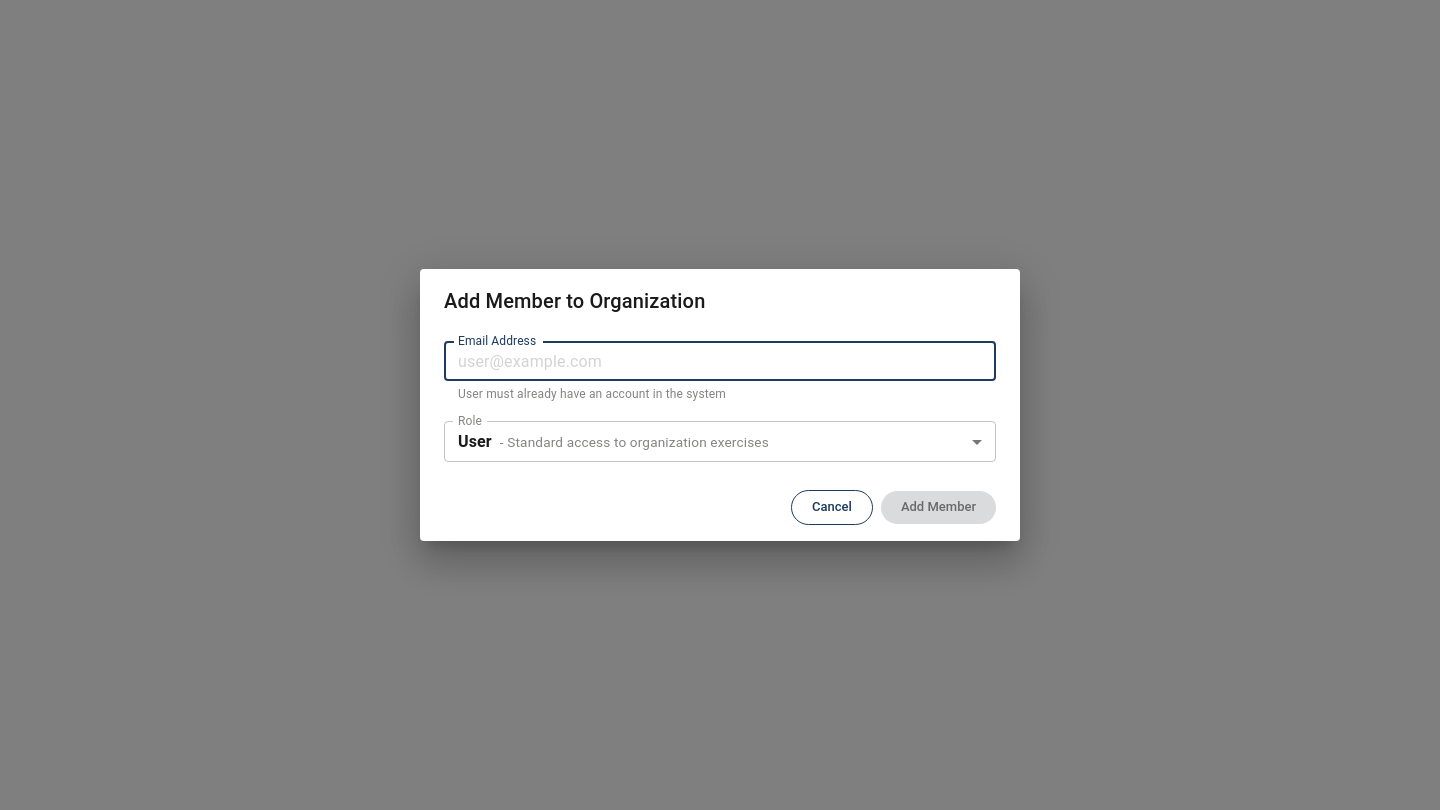
Test: AddMemberDialog › Form Validation › shows error when email is invalid
Type "invalidemail" into the field labelled "Email Address" at (720, 361), box x1=444 y1=341 x2=996 y2=381
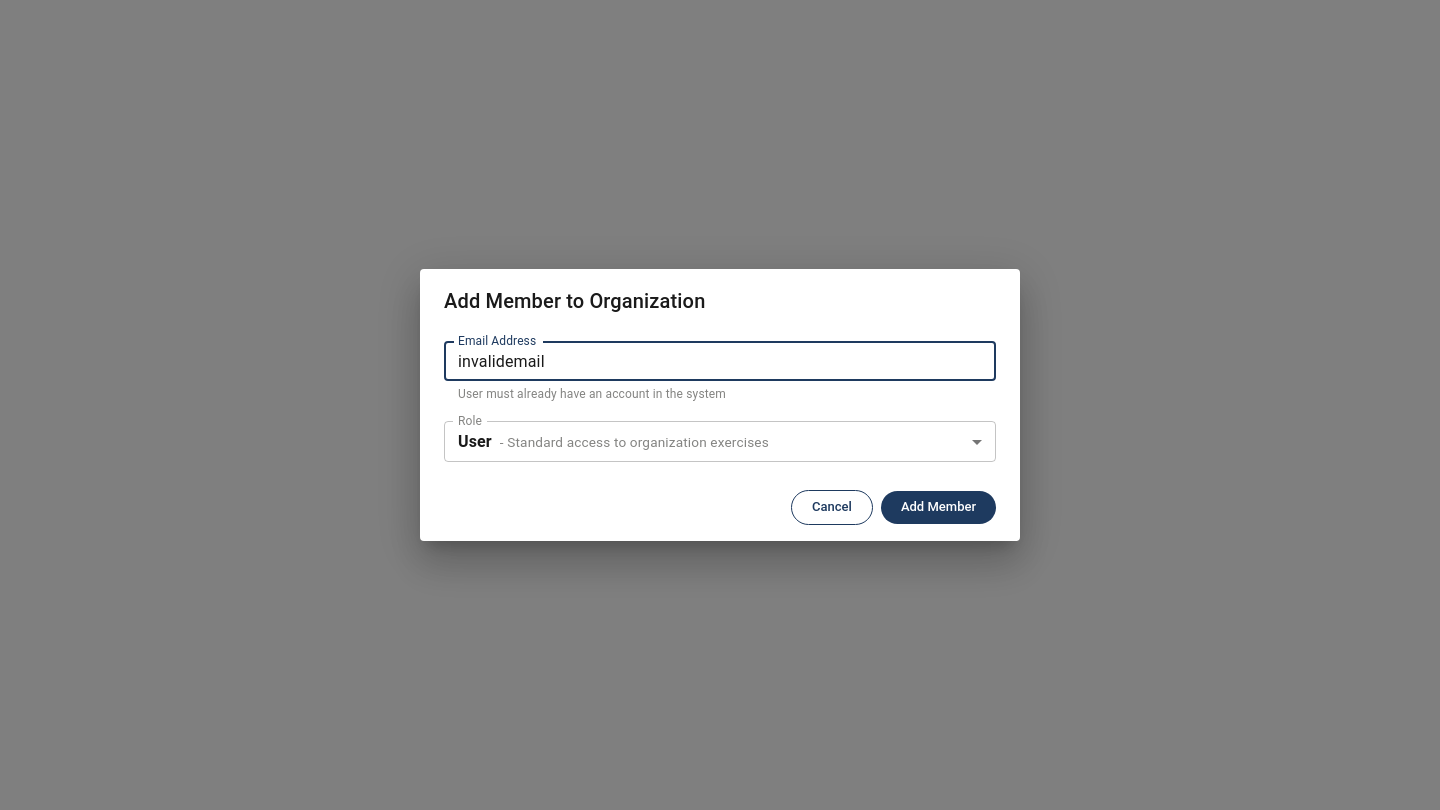
Click the button "Add Member" at (938, 508), box x1=881 y1=491 x2=996 y2=524
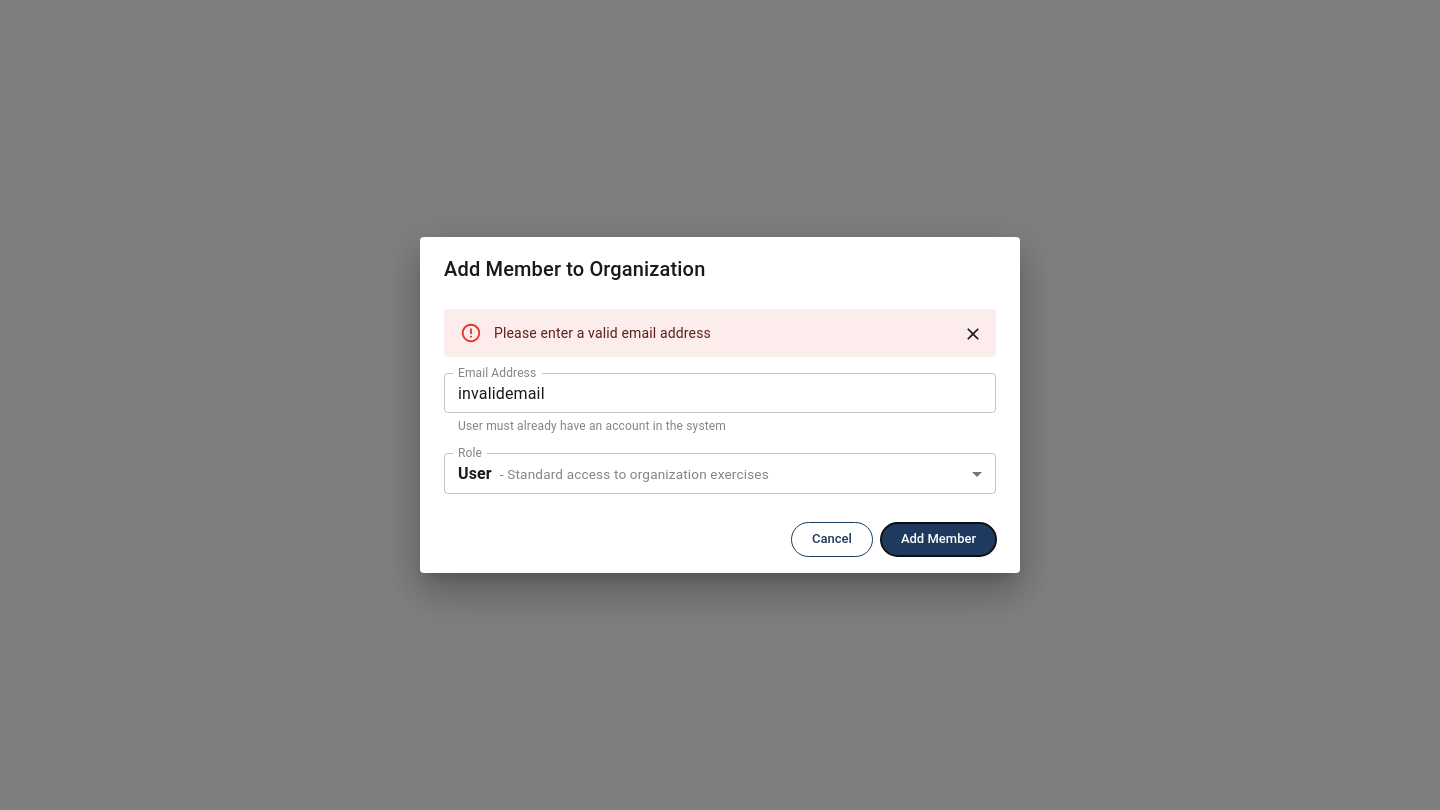
Now the text "Please enter a valid email address" is shown, box x1=494 y1=325 x2=711 y2=341
